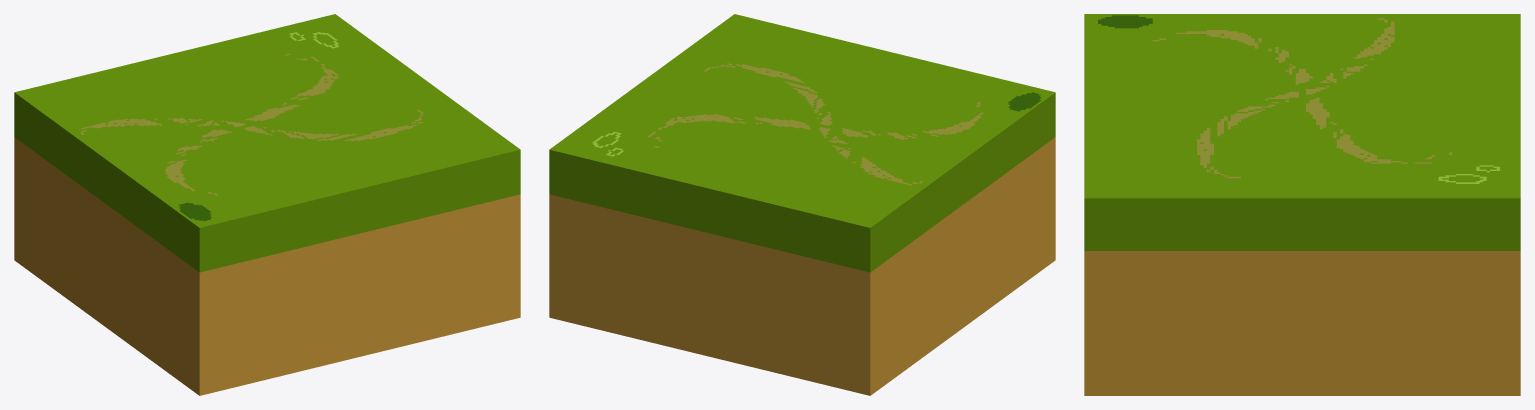
The picture shows the model from 3 angles, left to right: view 1: azimuth 30°, elevation 25°; view 2: azimuth 150°, elevation 25°; view 3: azimuth 270°, elevation 25°; orthographic projection. The views are drawn at different scales.
Visible parts, largest first — view 1: 8L; view 2: 8L; view 3: 8L.
Boxes of the visible parts, <box> form: 8L: <box>14,14,520,395</box>; 8L: <box>549,14,1055,395</box>; 8L: <box>1084,14,1520,395</box>.
Bounding box in the file's own units: 12.8 × 6.4 × 12.8.
1 material, 1 textured.
